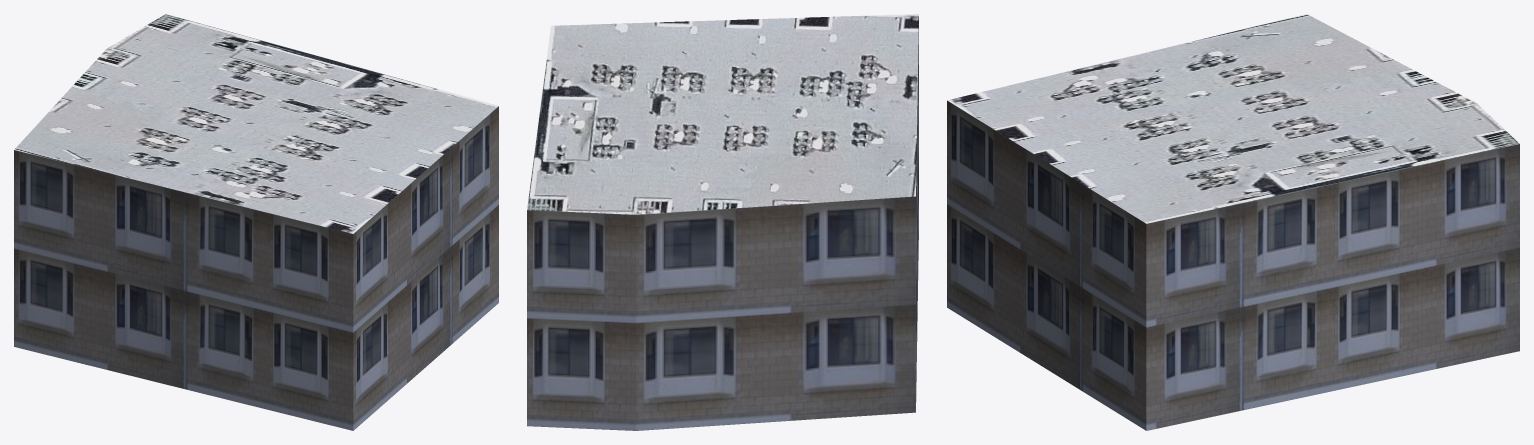
Rendered from ResTex__1487.fbx.
3 views of the same model, side by side, from view 1: azimuth 30°, elevation 25°; view 2: azimuth 150°, elevation 25°; view 3: azimuth 270°, elevation 25° (orthographic). The views are drawn at different scales.
Parts seen in each view (by area): view 1: CityEngineMaterial_3_m, CityEngineMaterial_4_m; view 2: CityEngineMaterial_3_m, CityEngineMaterial_4_m; view 3: CityEngineMaterial_3_m, CityEngineMaterial_4_m.
Boxes of the visible parts, x1,y1,x2,y2 form: CityEngineMaterial_3_m: (14,106,498,430); CityEngineMaterial_4_m: (14,14,498,233); CityEngineMaterial_3_m: (527,24,918,430); CityEngineMaterial_4_m: (527,14,918,214); CityEngineMaterial_3_m: (947,100,1519,430); CityEngineMaterial_4_m: (947,14,1519,223).
Size of the model in its own units: 13.03 by 6 by 15.04.
2 materials, 2 textured.
